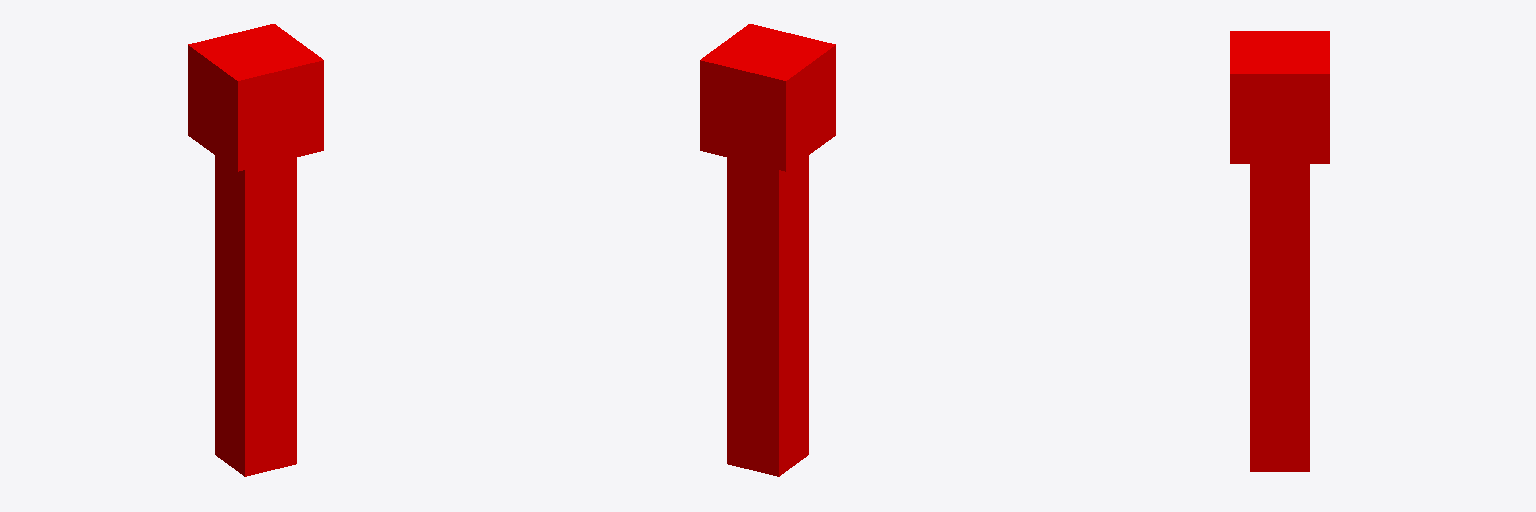
File: Lever.obj
3 views of the same model, side by side, from view 1: azimuth 30°, elevation 25°; view 2: azimuth 150°, elevation 25°; view 3: azimuth 270°, elevation 25° (orthographic).
Visible parts, largest first — view 1: Lever; view 2: Lever; view 3: Lever.
Boxes of the visible parts, box(x1,y1,x2,y2) form: Lever: box(188, 24, 323, 476); Lever: box(700, 24, 835, 476); Lever: box(1230, 31, 1329, 471).
Bounding box in the file's own units: 2 × 8.99 × 2.